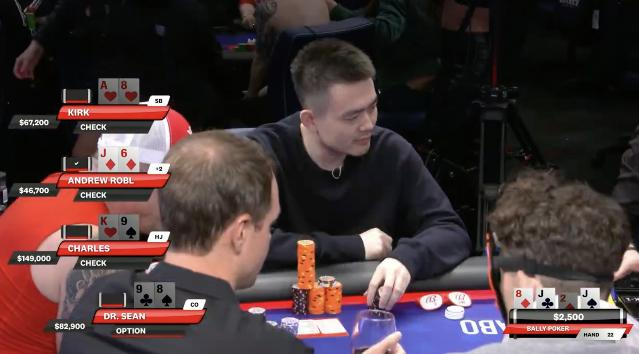2D: (561, 292, 579, 310)
6D: (119, 146, 138, 172)
8D: (516, 288, 534, 308)
8H: (119, 77, 139, 106)
8S: (155, 282, 175, 310)
9C: (134, 282, 154, 310)
9S: (119, 215, 139, 241)
AH: (98, 78, 119, 104)
JC: (538, 288, 558, 310)
JD: (98, 146, 118, 172)
JS: (584, 288, 600, 308)
KH: (99, 214, 119, 241)
